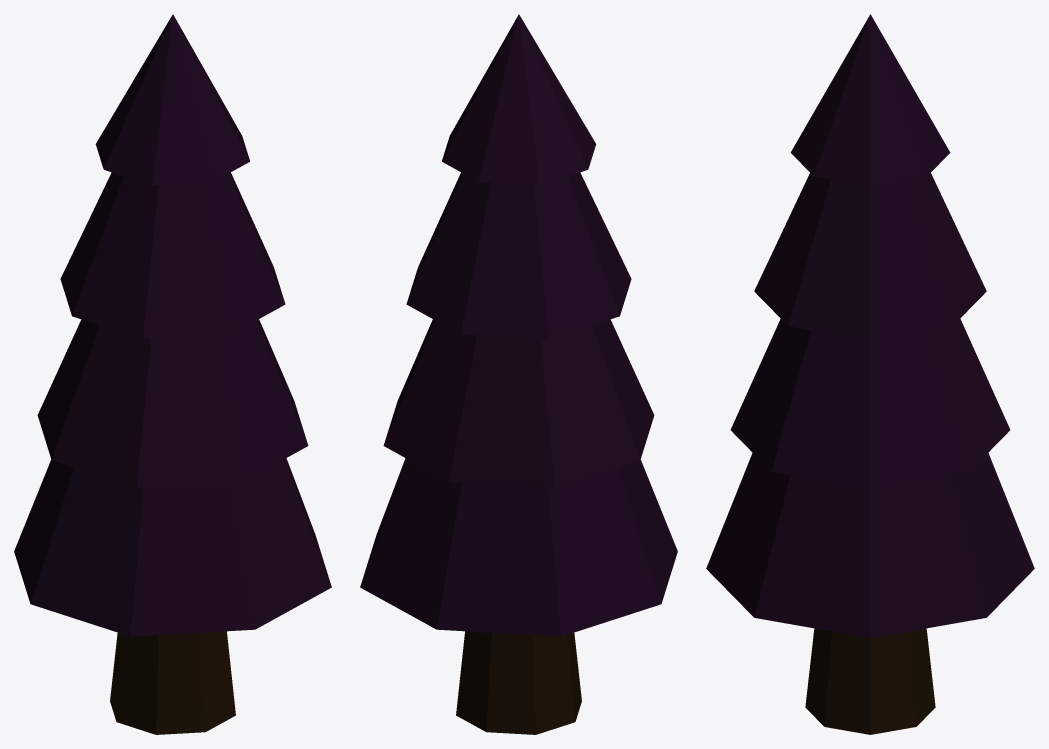
The picture shows the model from 3 angles, left to right: view 1: azimuth 30°, elevation 25°; view 2: azimuth 150°, elevation 25°; view 3: azimuth 270°, elevation 25°; orthographic projection.
Visible parts, largest first — view 1: Cylinder; view 2: Cylinder; view 3: Cylinder.
Part boxes in pixels (x1,y1,x2,y2): Cylinder: (14, 14, 331, 734); Cylinder: (360, 14, 677, 734); Cylinder: (706, 14, 1034, 734).
Size of the model in its own units: 351 by 817 by 351.
